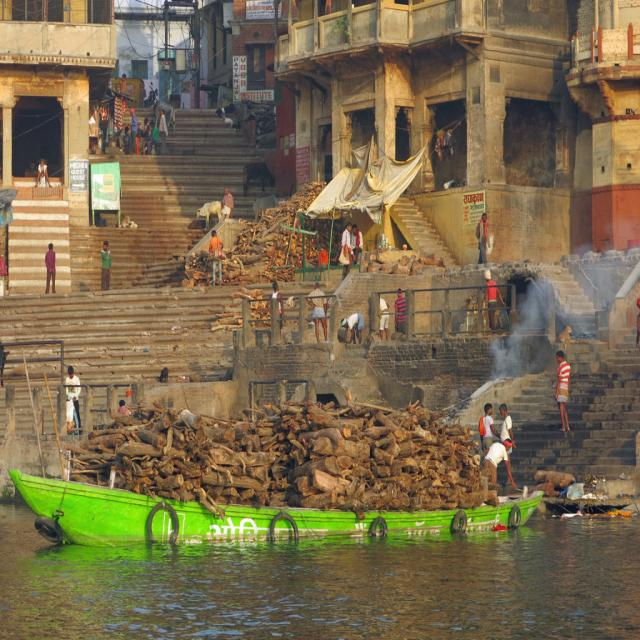Boat: (6, 468, 544, 543)
